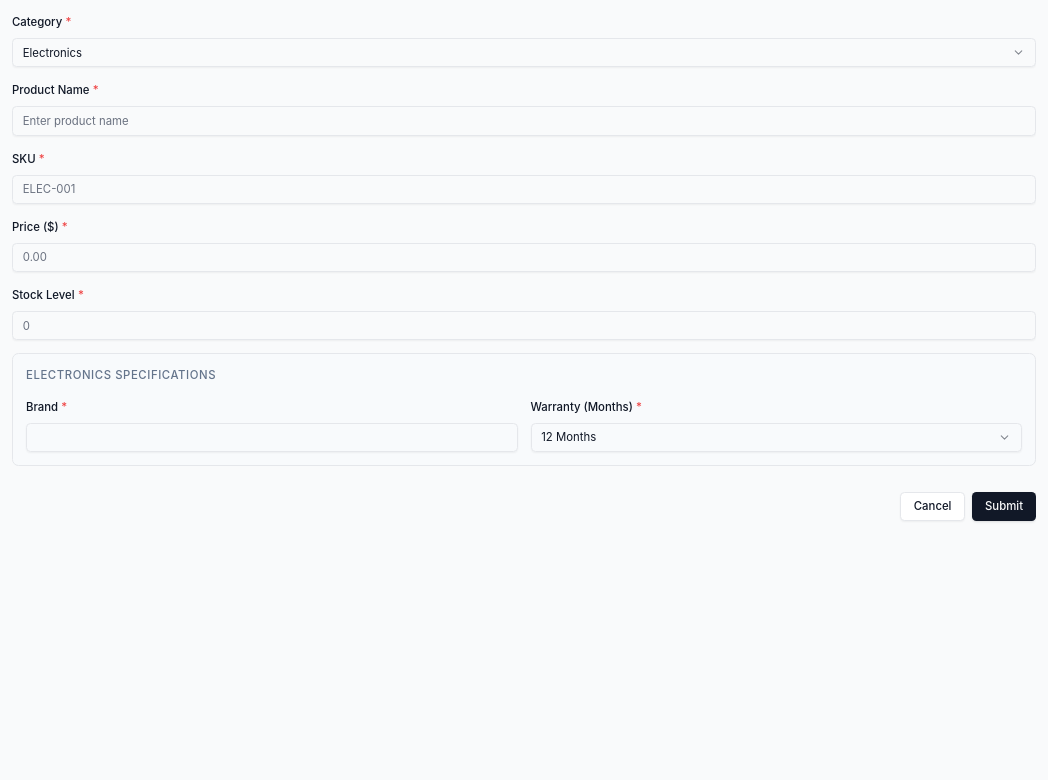
Test case: ProductForm Integration › shows validation errors when submitting an empty form
The image size is (1048, 780).
// Click Submit
Click the button "Submit" at (1004, 506), box [972, 492, 1036, 521]
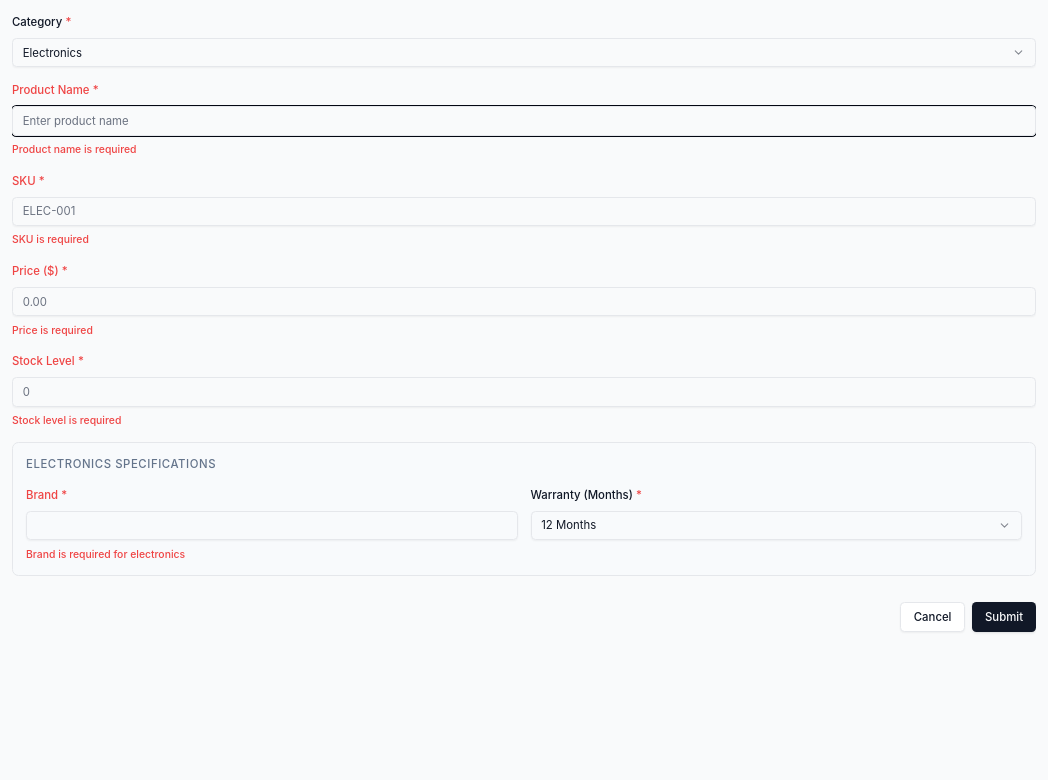
Result: the text "Product name is required" is shown at [12, 143, 136, 156]
Result: the text "SKU is required" is shown at [12, 233, 89, 246]
